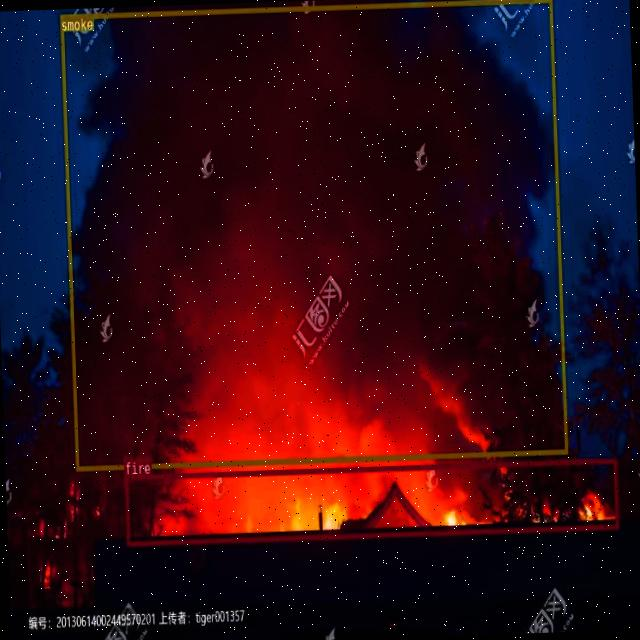fire: (124, 458, 618, 546)
smoke: (59, 0, 568, 469)
